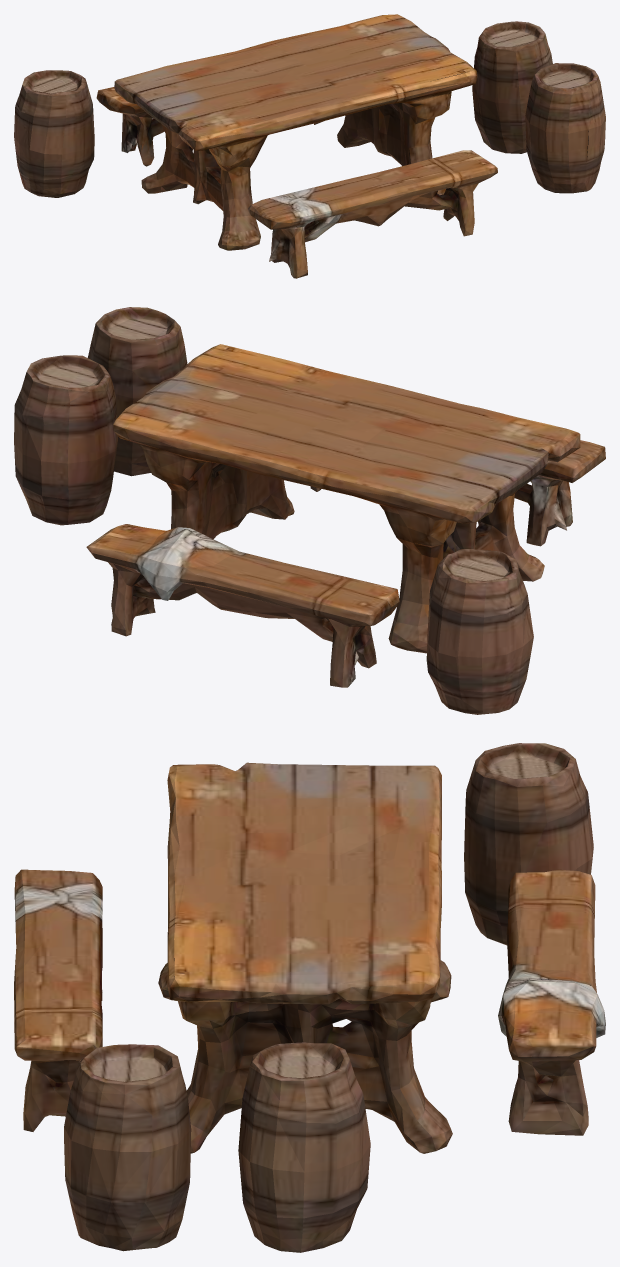
File: meshy_tavern_set_barrels_b_lod0.glb
3 renders of one model, top to bottom at view 1: azimuth 30°, elevation 25°; view 2: azimuth 150°, elevation 25°; view 3: azimuth 270°, elevation 25°, orthographic. The views are drawn at different scales.
Visible parts, largest first — view 1: meshy_tavern_set_barrels_b; view 2: meshy_tavern_set_barrels_b; view 3: meshy_tavern_set_barrels_b.
Part boxes in pixels (bbox=[...]): meshy_tavern_set_barrels_b: bbox=[14, 14, 605, 278]; meshy_tavern_set_barrels_b: bbox=[14, 307, 605, 714]; meshy_tavern_set_barrels_b: bbox=[14, 743, 605, 1252].
Bounding box in the file's own units: 5.57 × 1.4 × 3.88.
1 material, 1 textured.
